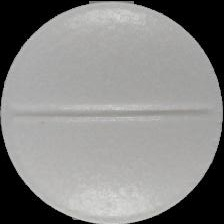0615-6562: (0, 0, 224, 224)
